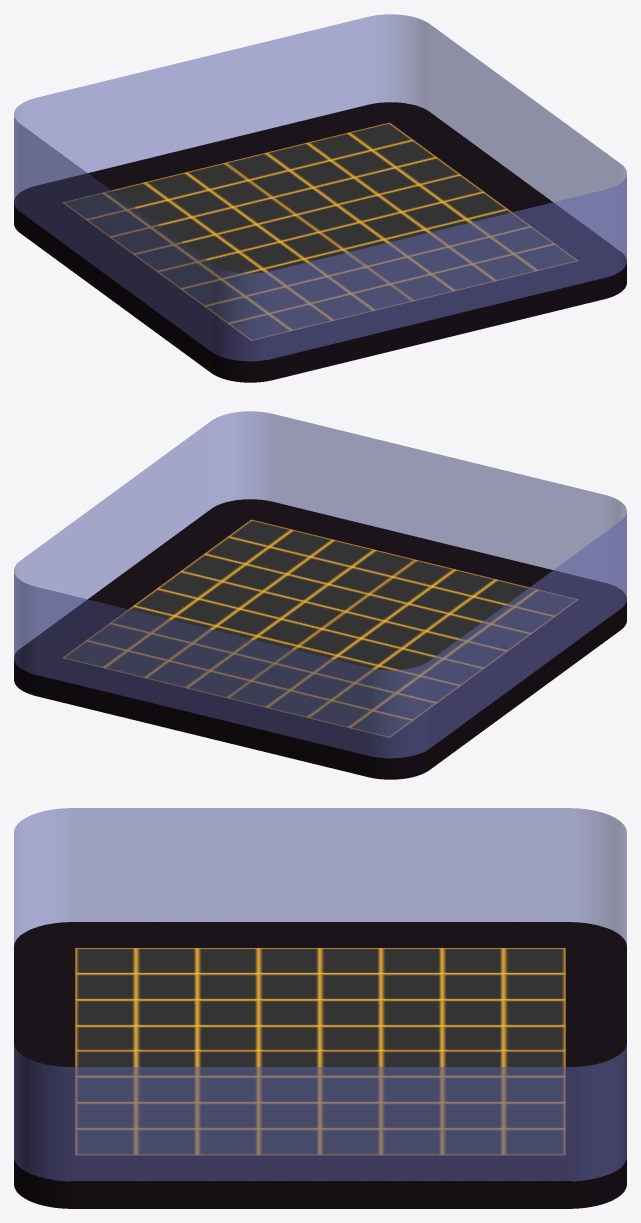
File: zzz.fbx
3 views of the same model, one above another, from view 1: azimuth 30°, elevation 25°; view 2: azimuth 150°, elevation 25°; view 3: azimuth 270°, elevation 25° (orthographic). The views are drawn at different scales.
Parts seen in each view (by area): view 1: Walls; view 2: Walls; view 3: Walls.
Part boxes in pixels (x1=…): Walls: x1=14, y1=14, x2=626, y2=382; Walls: x1=14, y1=411, x2=626, y2=779; Walls: x1=14, y1=808, x2=626, y2=1208.
Size of the model in its own units: 1000 by 255 by 1000.
